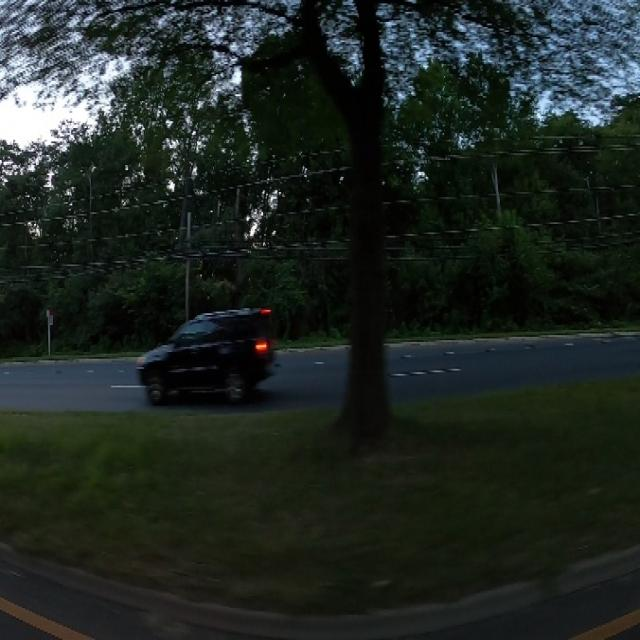cars: (141, 305, 284, 409)
